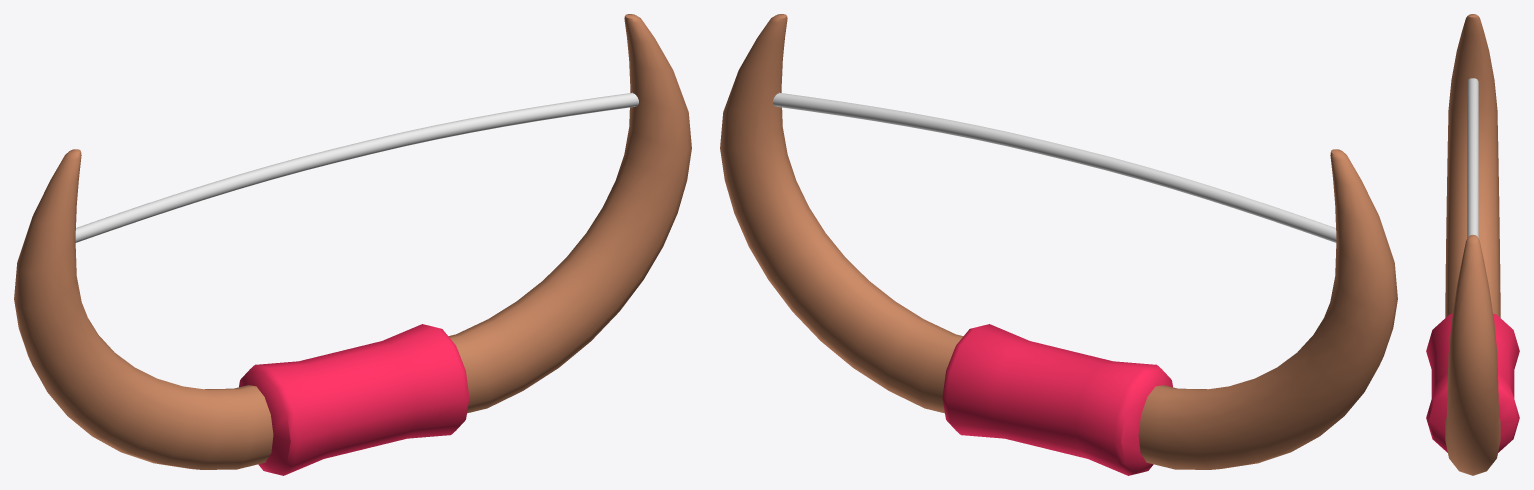
Rendered from bow_teamRed-col.glb.
3 renders of one model, left to right at view 1: azimuth 30°, elevation 25°; view 2: azimuth 150°, elevation 25°; view 3: azimuth 270°, elevation 25°, orthographic. The views are drawn at different scales.
Parts seen in each view (by area): view 1: bow_teamRed-col; view 2: bow_teamRed-col; view 3: bow_teamRed-col.
Part boxes in pixels (x1=…): bow_teamRed-col: x1=14, y1=14, x2=691, y2=475; bow_teamRed-col: x1=720, y1=14, x2=1397, y2=475; bow_teamRed-col: x1=1426, y1=14, x2=1519, y2=475.
Size of the model in its own units: 1.54 by 0.8126 by 0.2289.
